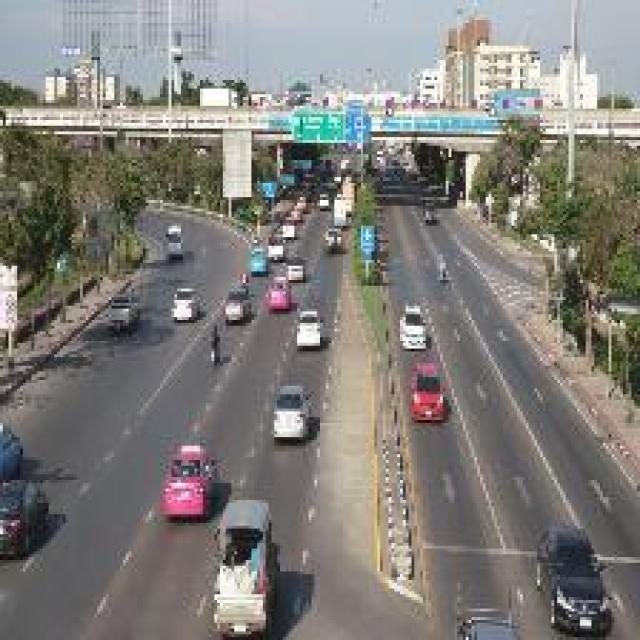other: (387, 357, 465, 428), (292, 303, 326, 347)
